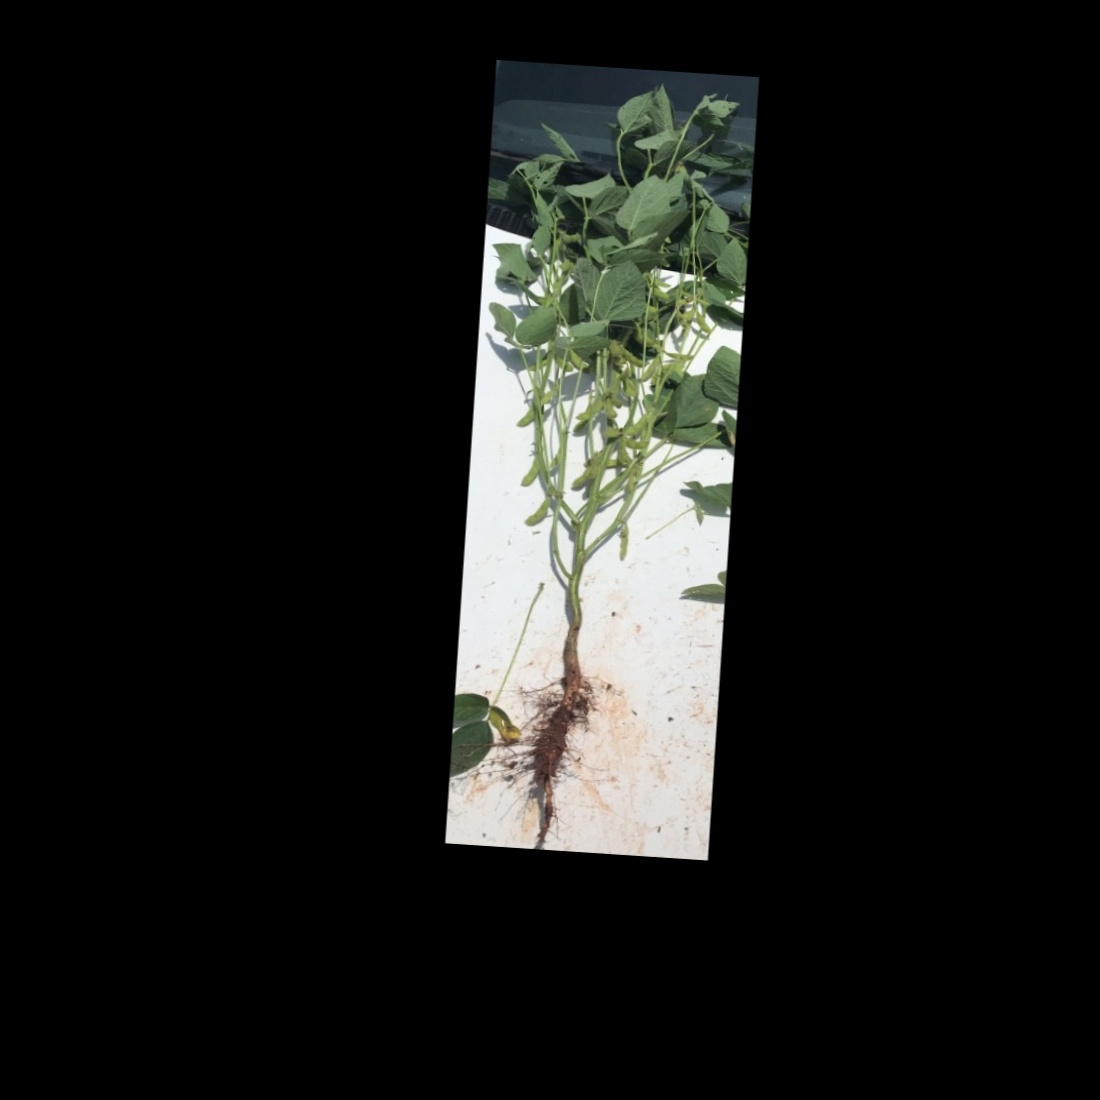pod: (515, 493, 554, 532), (517, 450, 543, 491), (636, 355, 659, 388), (513, 401, 536, 430), (566, 350, 591, 374), (618, 437, 654, 451), (696, 310, 714, 337)
soy: (457, 80, 739, 811)
